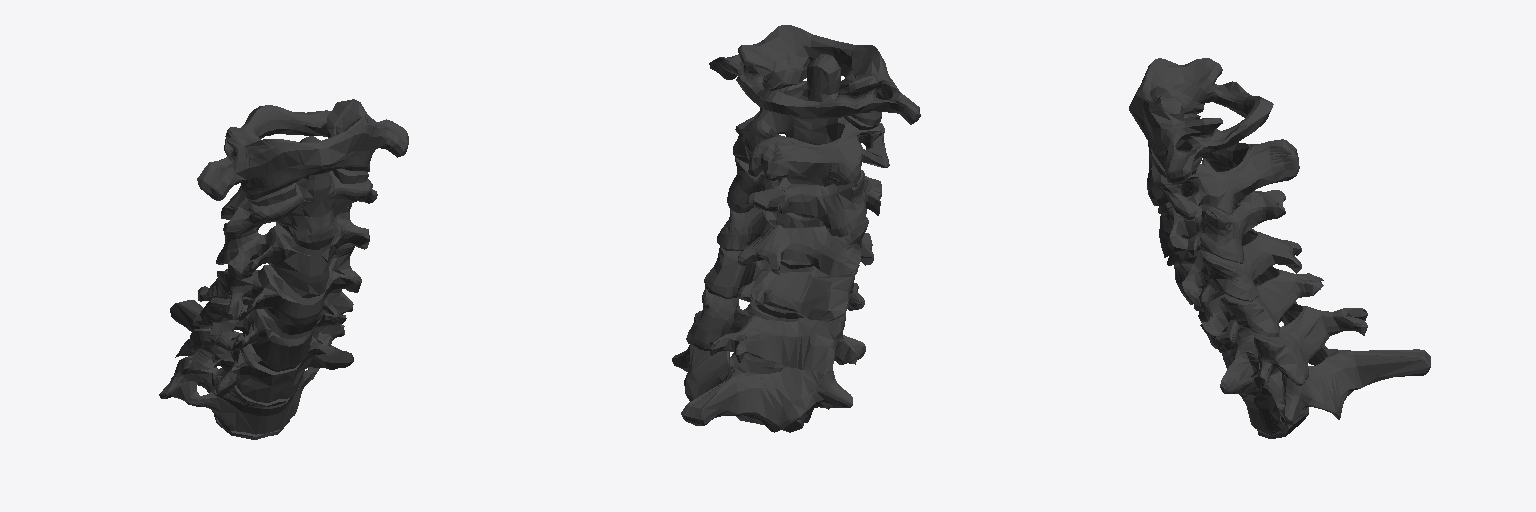
The model's file is Neck.obj.
The picture shows the model from 3 angles: view 1: azimuth 30°, elevation 25°; view 2: azimuth 150°, elevation 25°; view 3: azimuth 270°, elevation 25°; orthographic projection.
Bounding box in the file's own units: 0.0797 × 0.1274 × 0.1004.